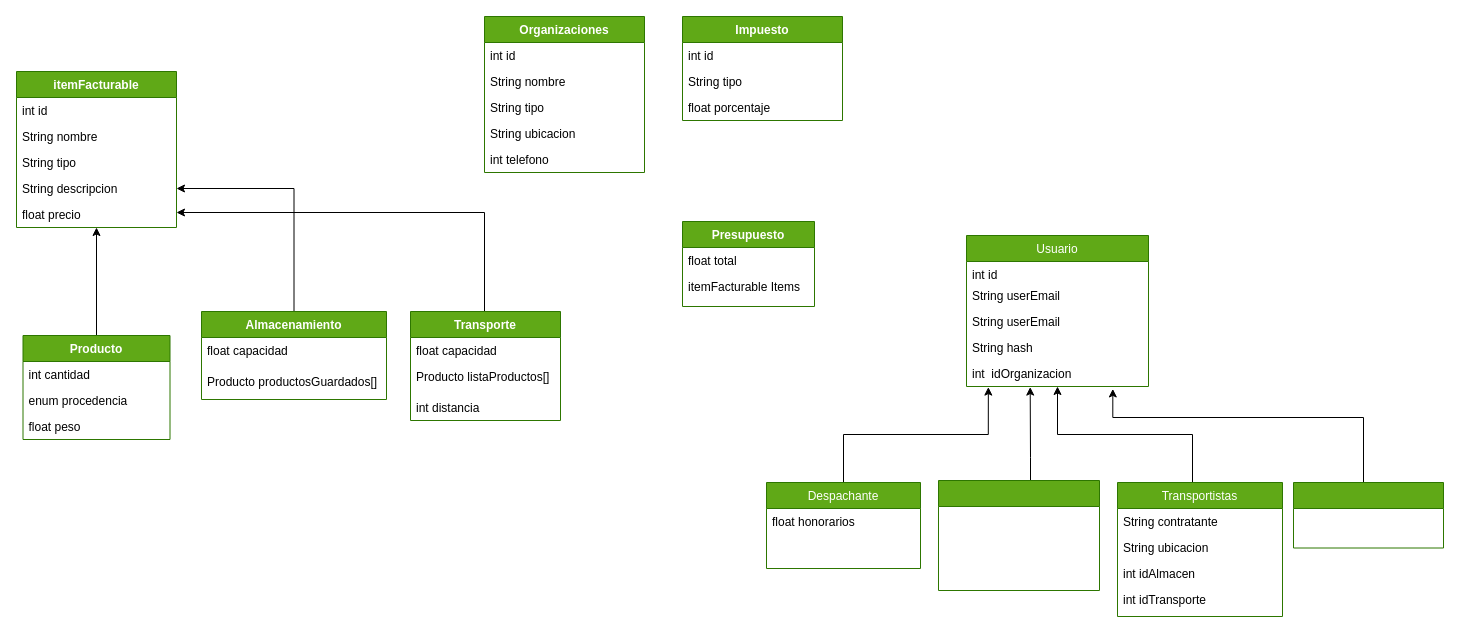
The diagram is 1460 pixels wide and 633 high, and some of its shapes have lost their labels. Here are the shapes that lost their labels. From the top down, the centre of each, then its label:
the point at 1019,535: Auditores
the point at 1368,515: Administrador
